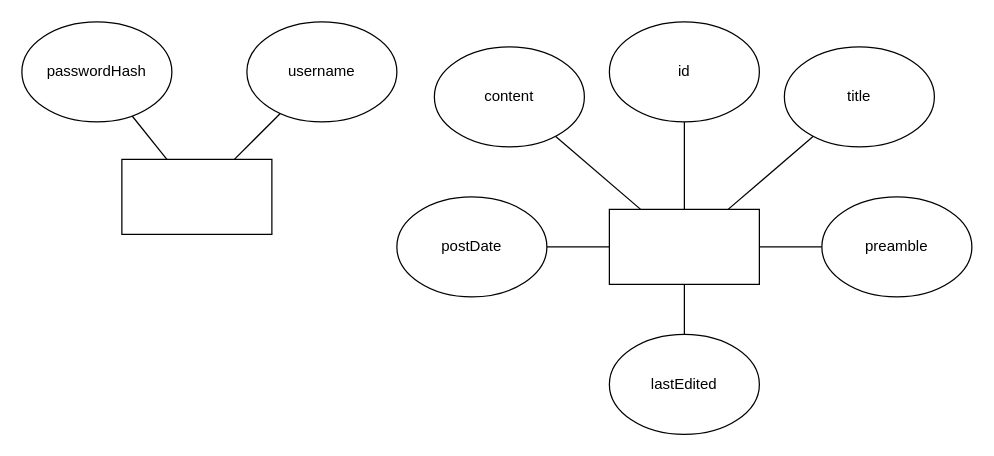
Image size: 994x456. Some labels were removed from this diagram. Here are the shapes that lost their labels. From the top down, the box of each, then its label:
(121, 158, 272, 234): admin
(608, 208, 759, 284): news
